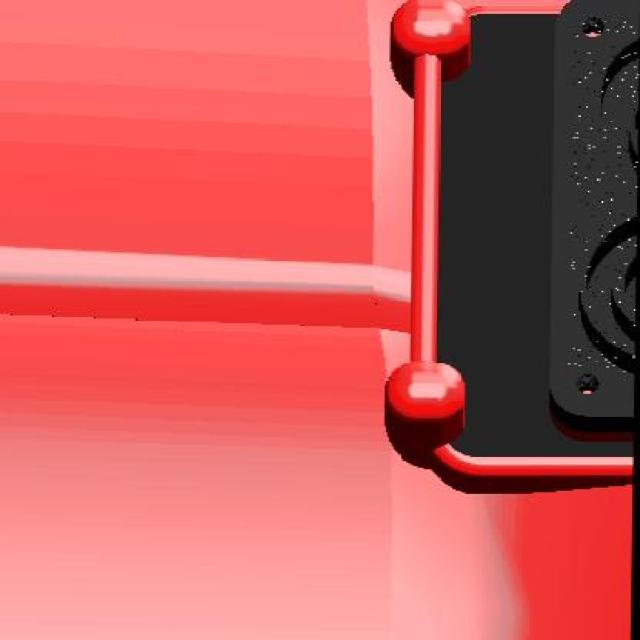CCS2: (509, 0, 640, 449)
